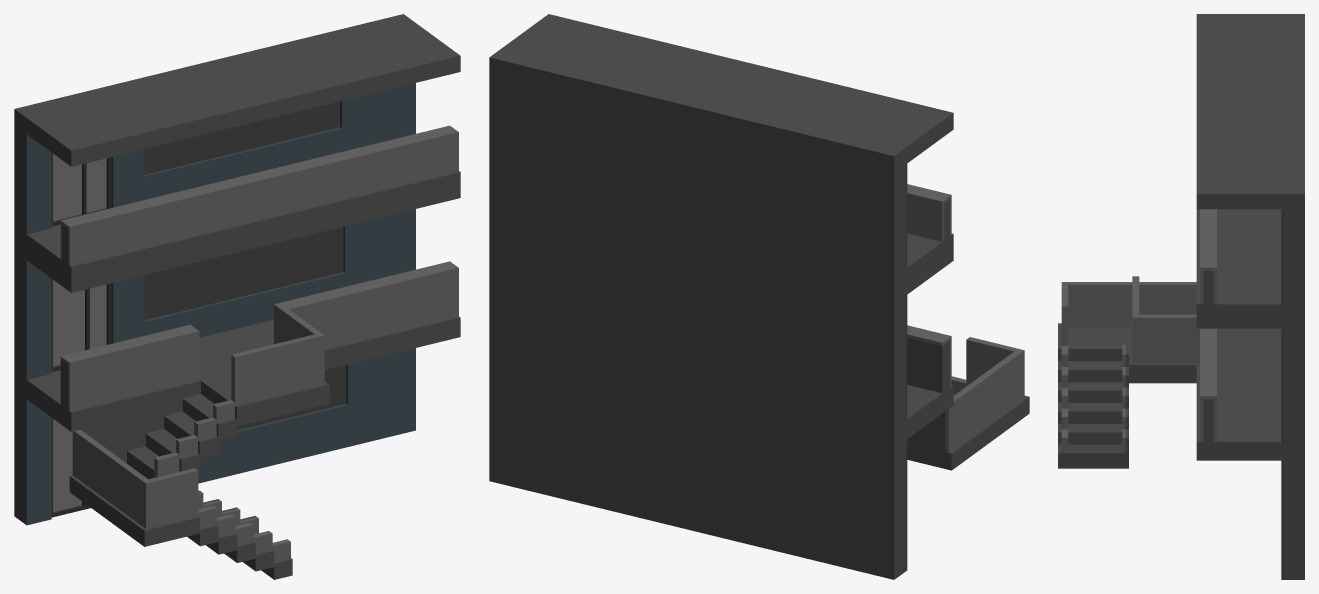
The model's file is Pool_building-0.obj.
3 renders of one model, left to right at view 1: azimuth 30°, elevation 25°; view 2: azimuth 150°, elevation 25°; view 3: azimuth 270°, elevation 25°, orthographic. The views are drawn at different scales.
Bounding box in the file's own units: 12.6 × 12.6 × 7.3.
Materials: 1 (1 with a texture image).
